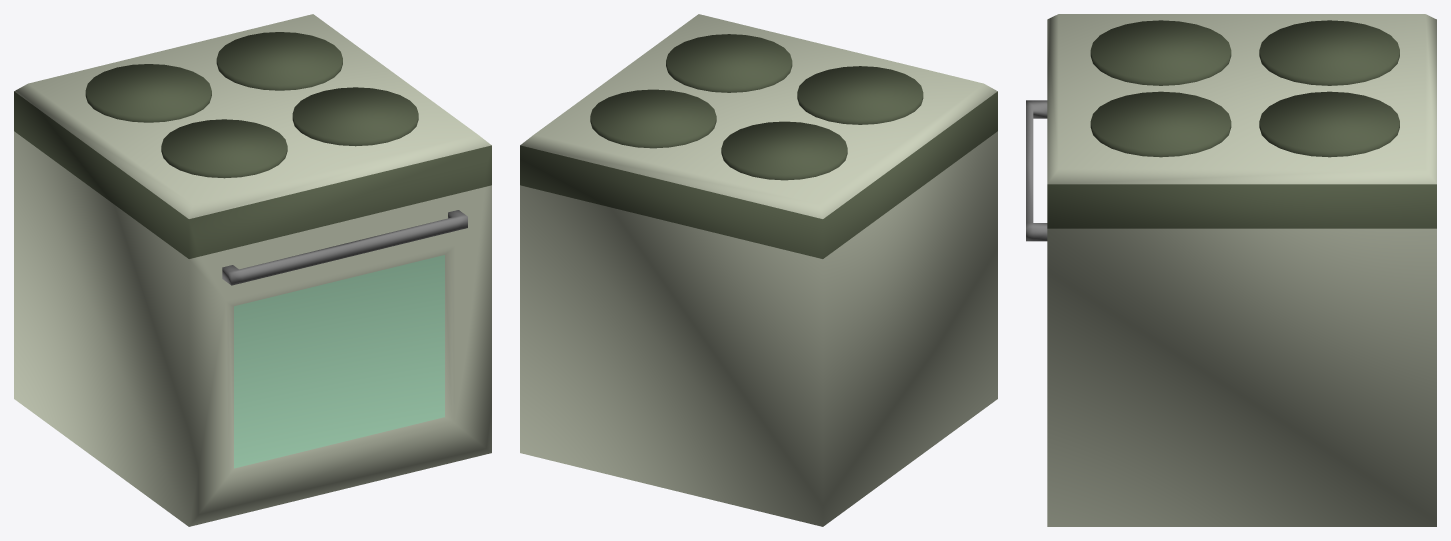
File: herd.glb
The picture shows the model from 3 angles, left to right: view 1: azimuth 30°, elevation 25°; view 2: azimuth 150°, elevation 25°; view 3: azimuth 270°, elevation 25°; orthographic projection. The views are drawn at different scales.
Visible parts, largest first — view 1: Stove; view 2: Stove; view 3: Stove.
Boxes of the visible parts, left/top/right/bottom form: Stove: left=14, top=14, right=491, bottom=526; Stove: left=520, top=14, right=997, bottom=526; Stove: left=1026, top=14, right=1436, bottom=526.
Size of the model in its own units: 0.6347 by 0.6457 by 0.669.
